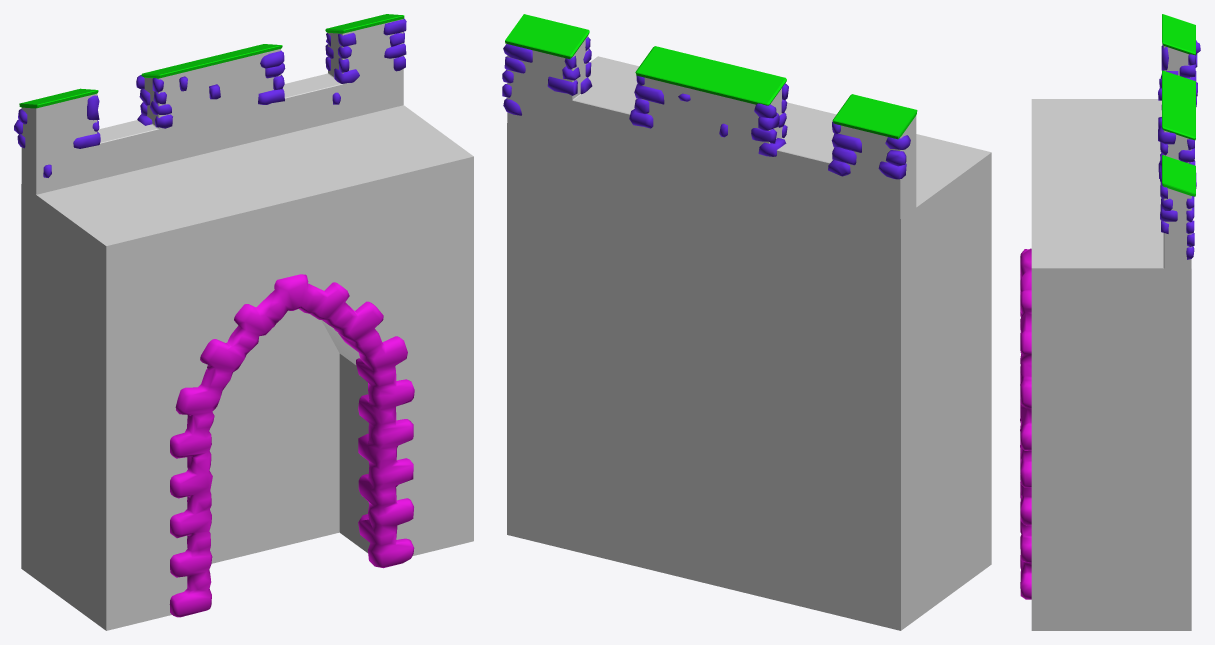
The model's file is Medieval WallArc2.fbx.
3 renders of one model, left to right at view 1: azimuth 30°, elevation 25°; view 2: azimuth 150°, elevation 25°; view 3: azimuth 270°, elevation 25°, orthographic. The views are drawn at different scales.
Visible parts, largest first — view 1: WallArc2; view 2: WallArc2; view 3: WallArc2.
Part boxes in pixels (<box>): WallArc2: <box>14,14,473,630</box>; WallArc2: <box>502,14,991,630</box>; WallArc2: <box>1020,14,1200,630</box>.
Size of what is drawn, in the model's own units: 5.12 by 6.19 by 2.26.
